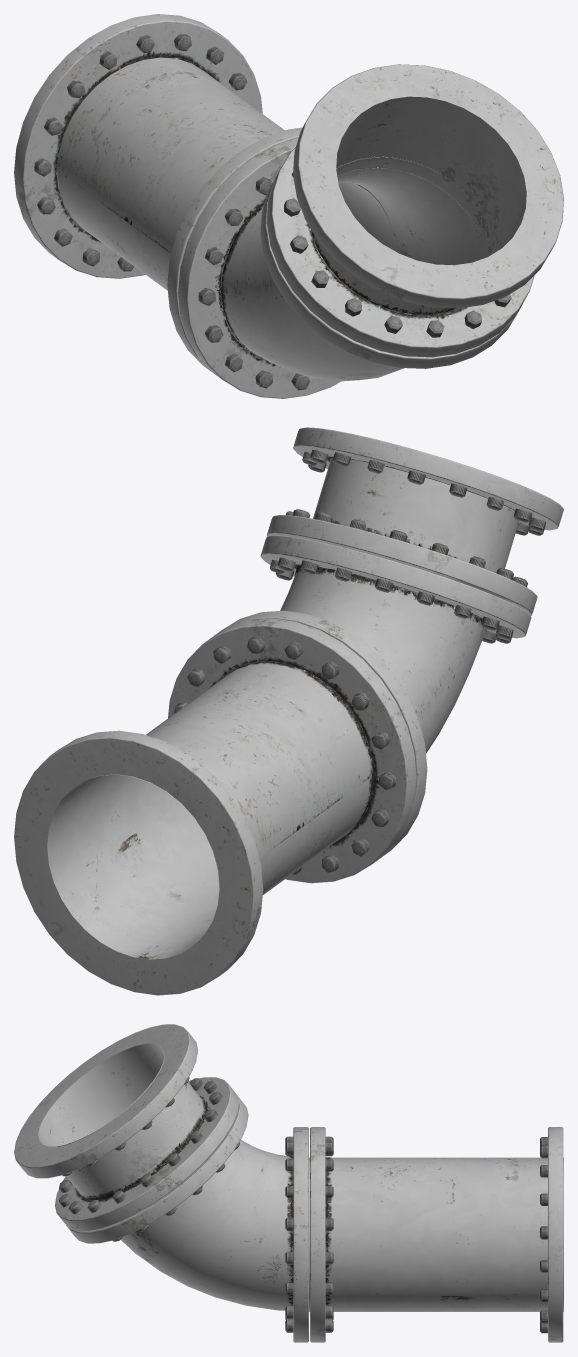
The model's file is Modular_Large_Pipe_Angle55degre.fbx.
3 views of the same model, one above another, from view 1: azimuth 30°, elevation 25°; view 2: azimuth 150°, elevation 25°; view 3: azimuth 270°, elevation 25° (orthographic). The views are drawn at different scales.
Parts seen in each view (by area): view 1: Modular_Large_Pipe_Angle55degre_LOD0; view 2: Modular_Large_Pipe_Angle55degre_LOD0; view 3: Modular_Large_Pipe_Angle55degre_LOD0.
Part boxes in pixels (bbox=[...]): Modular_Large_Pipe_Angle55degre_LOD0: bbox=[14, 14, 563, 398]; Modular_Large_Pipe_Angle55degre_LOD0: bbox=[14, 427, 563, 995]; Modular_Large_Pipe_Angle55degre_LOD0: bbox=[14, 1024, 563, 1342].
Size of what is drawn, in the model's own units: 1.4 by 2.09 by 3.57.
